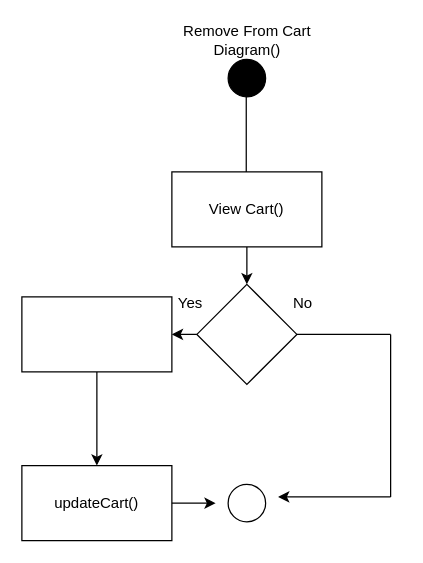
This 423x563 diagram has some shape labels left out. Here are the shapes that lost their labels. From the top down, the centre of each, then its label:
the point at 96,334: removeItemFromCart()
the point at 246,333: Remove Item?
